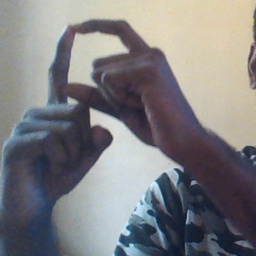D: (33, 15, 161, 144)
